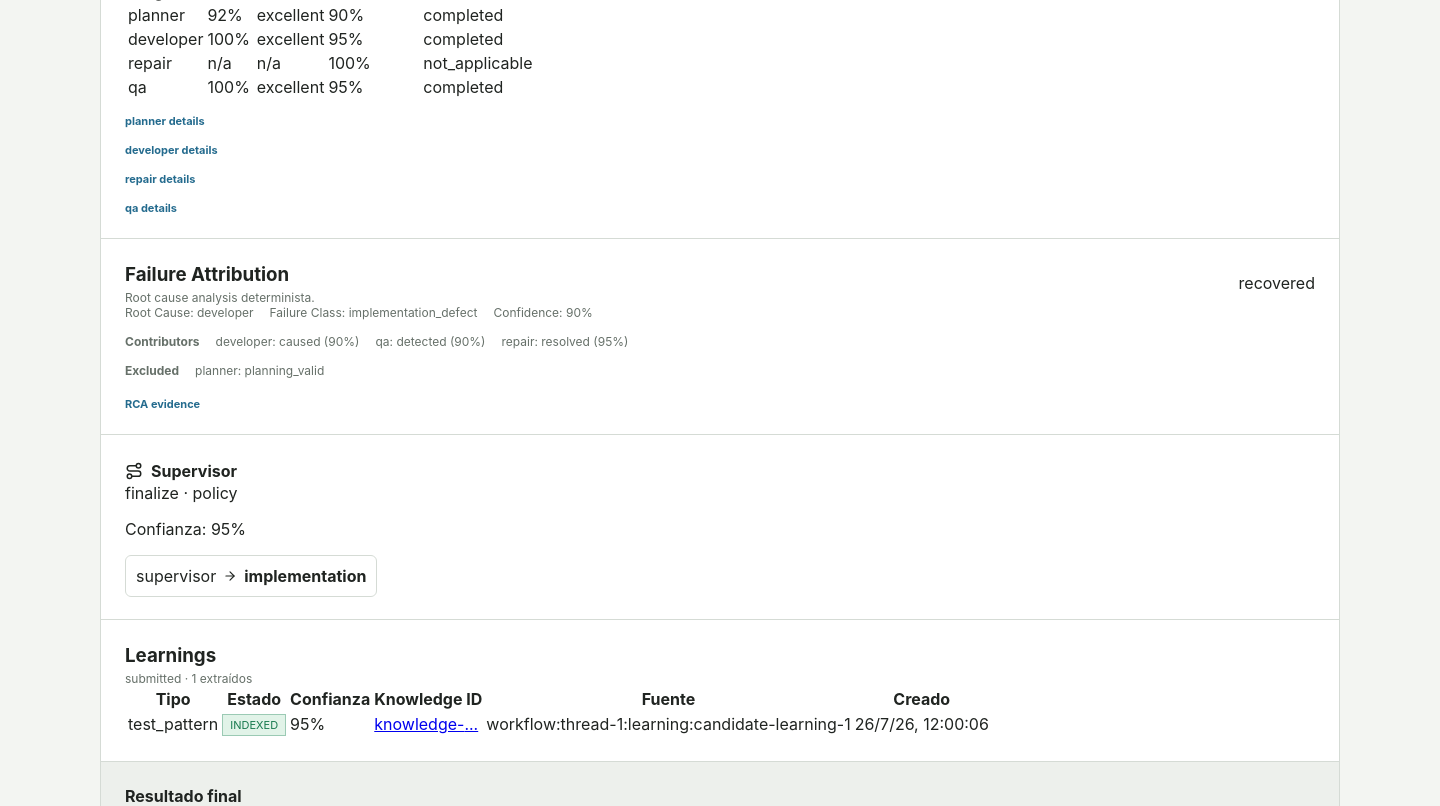
it: WorkflowExecutionTab summary › renders recovered root cause analysis with contributors
(page scrolled)
Expected: the text "Root Cause: developer" is shown, [125,305,254,320]
Expected: the text "Failure Class: implementation_defect" is shown, [270,305,477,320]
Click the heading "RCA evidence".
click(163, 404)  # box [125,397,200,411]
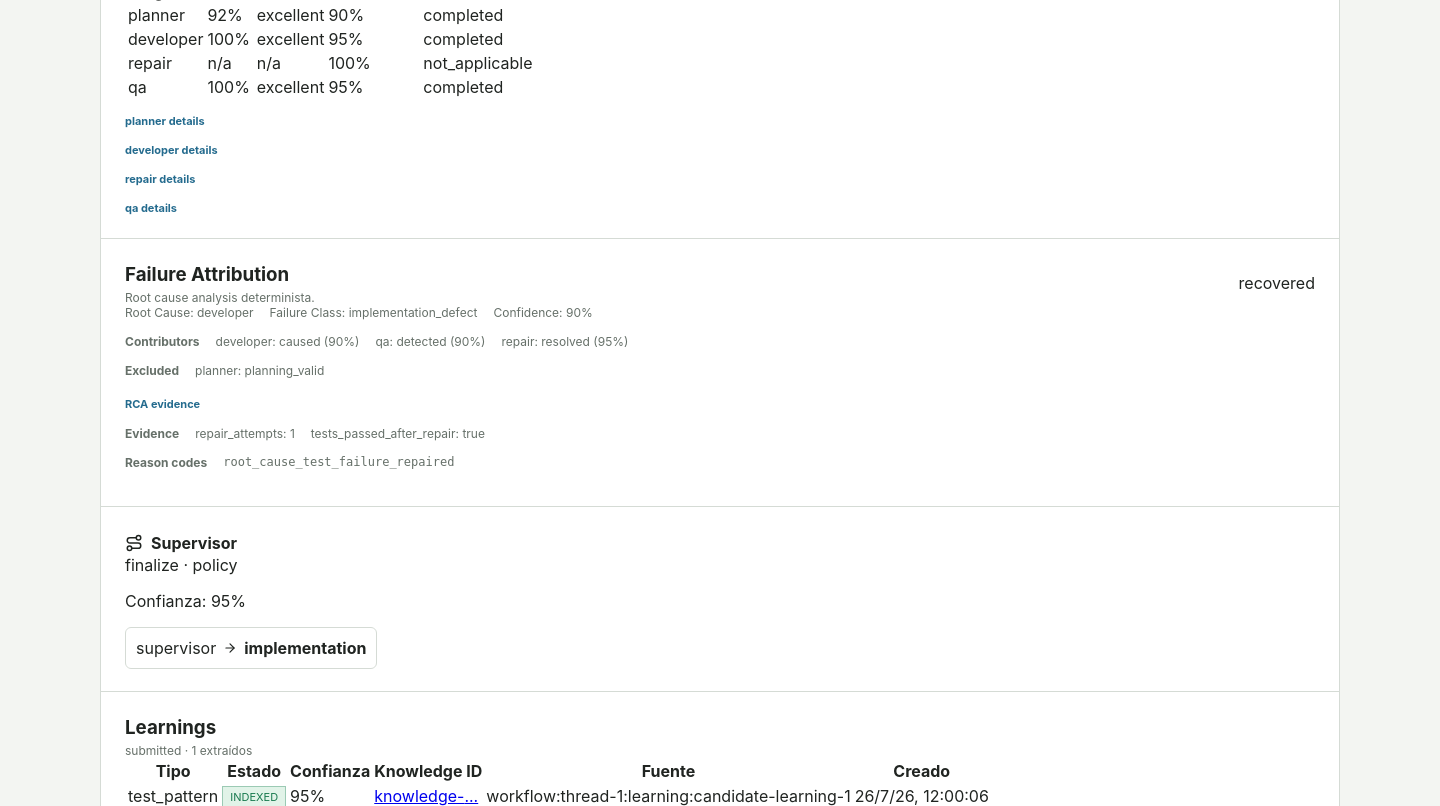
Now the text "repair_attempts: 1" is shown, box [195,426,295,441]
Now the text "root_cause_test_failure_repaired" is shown, box [223,455,454,469]
